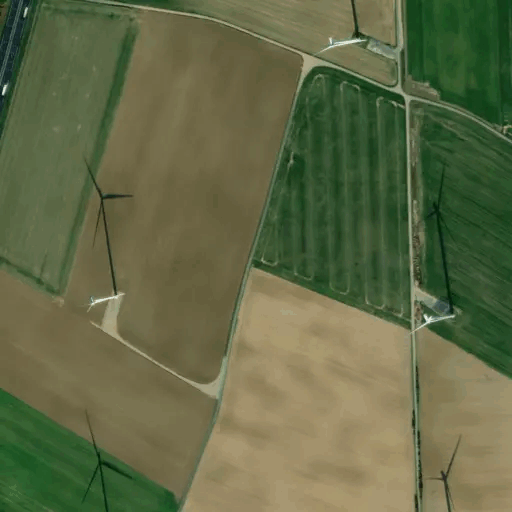wt: (392, 151, 469, 347), (67, 143, 151, 320)
